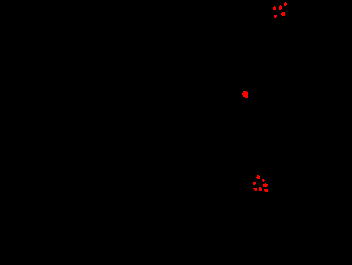Target: (242, 91, 248, 98), (263, 183, 268, 187), (281, 12, 285, 16), (256, 175, 260, 179), (279, 5, 282, 10), (284, 2, 287, 6), (273, 6, 276, 10), (259, 187, 262, 191), (253, 188, 257, 191), (264, 189, 268, 192), (274, 15, 277, 18), (262, 179, 265, 182), (253, 182, 256, 185)
